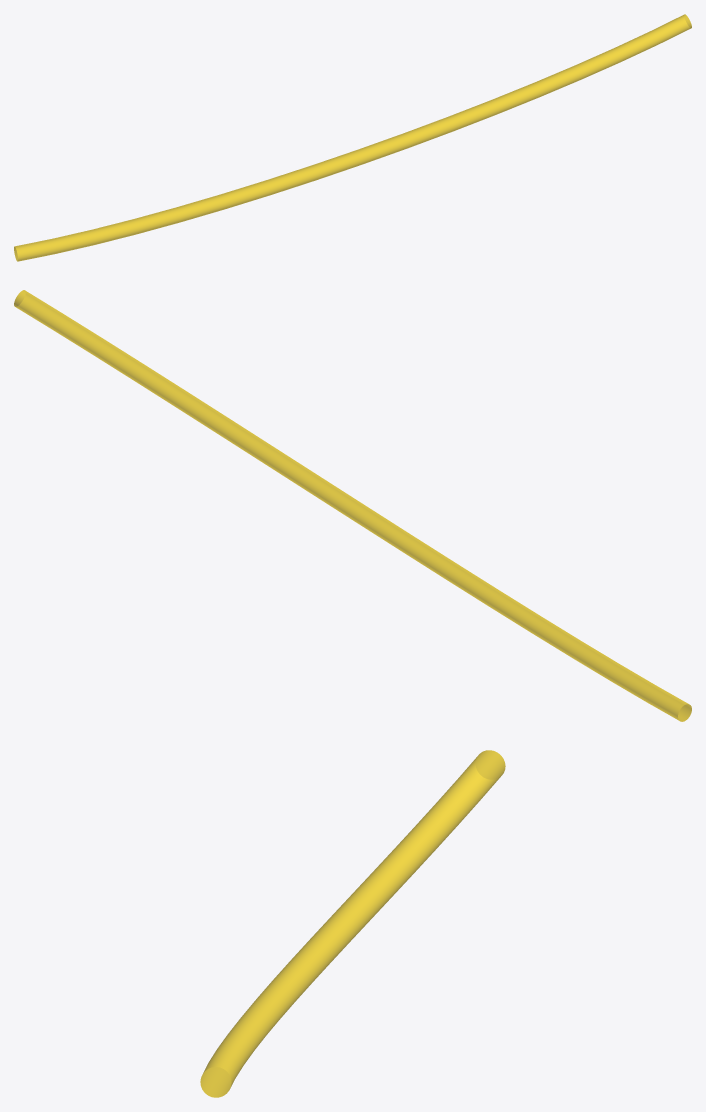
Rendered from Event_15818458_track_46.fbx.
3 renders of one model, top to bottom at view 1: azimuth 30°, elevation 25°; view 2: azimuth 150°, elevation 25°; view 3: azimuth 270°, elevation 25°, orthographic. The views are drawn at different scales.
Visible parts, largest first — view 1: Model; view 2: Model; view 3: Model.
Boxes of the visible parts, left/top/right/bottom form: Model: left=14, top=14, right=691, bottom=261; Model: left=14, top=290, right=691, bottom=721; Model: left=200, top=750, right=505, bottom=1097.
Size of the model in its own units: 1.79 by 0.4223 by 0.3903.
